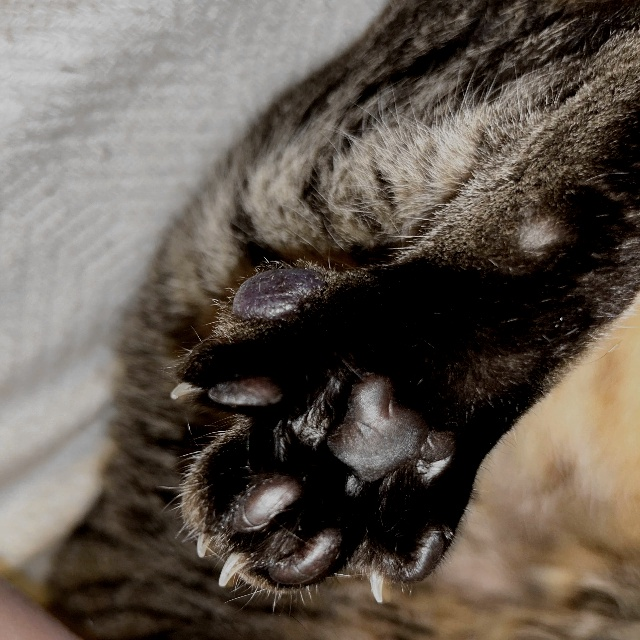lump_and_bump: (223, 266, 326, 327)
